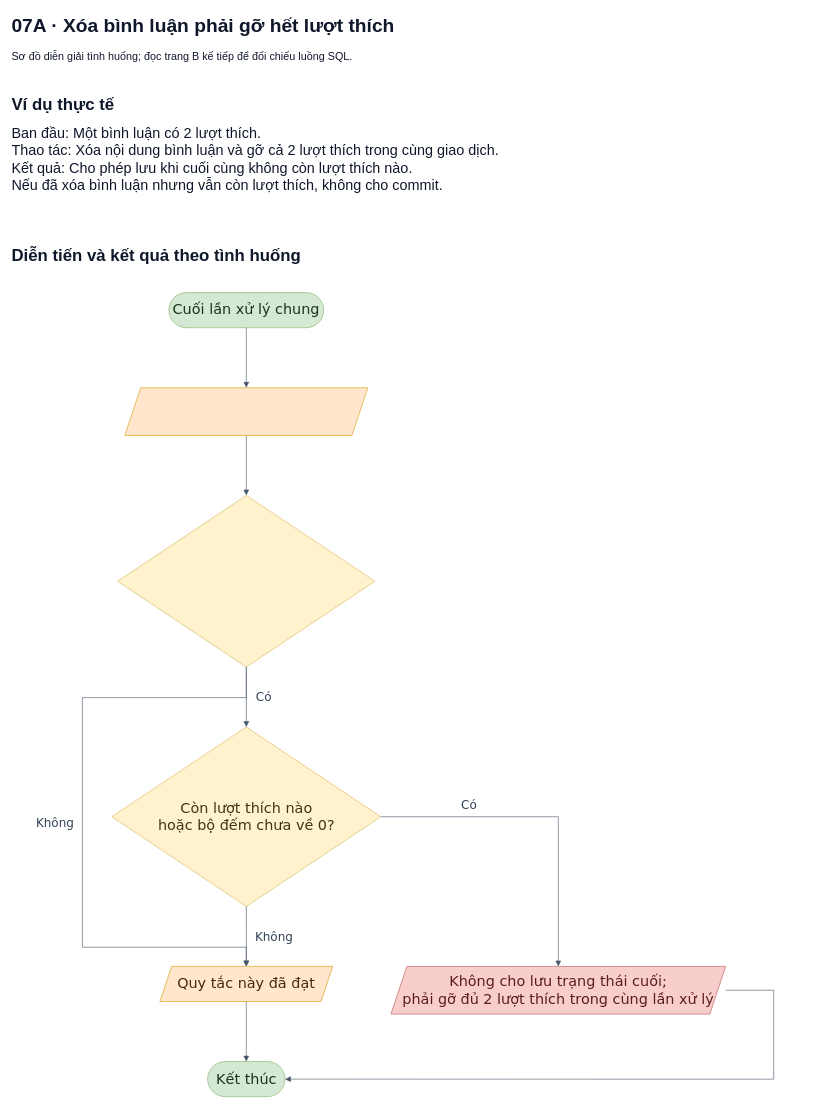
Some shapes in this 830 by 1107 pixel diagram are drawn without their labels. The box of each missing label's shape, as (x1, y1, x2, y2) in pixels:
Bình luận còn được lưu và đã bị xóa nội dung?: (117, 495, 375, 667)
Bình luận đã được sửa/xóa; ví dụ trước đó có 2 lượt thích: (124, 387, 368, 435)
